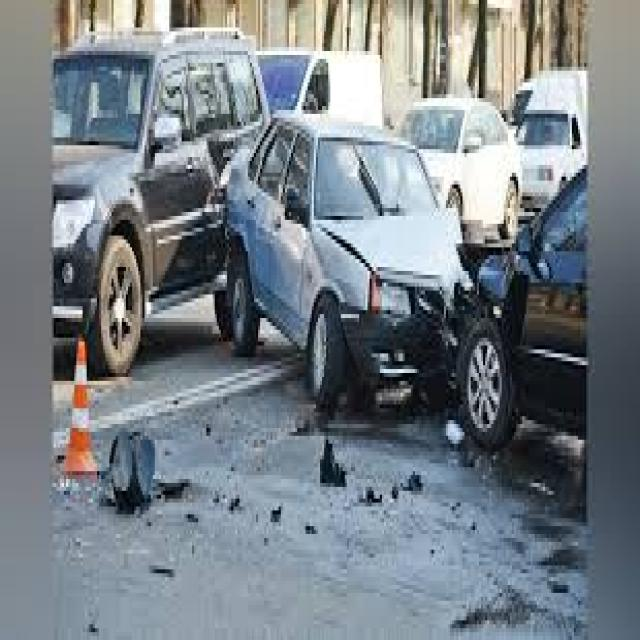accident: (240, 112, 600, 470)
